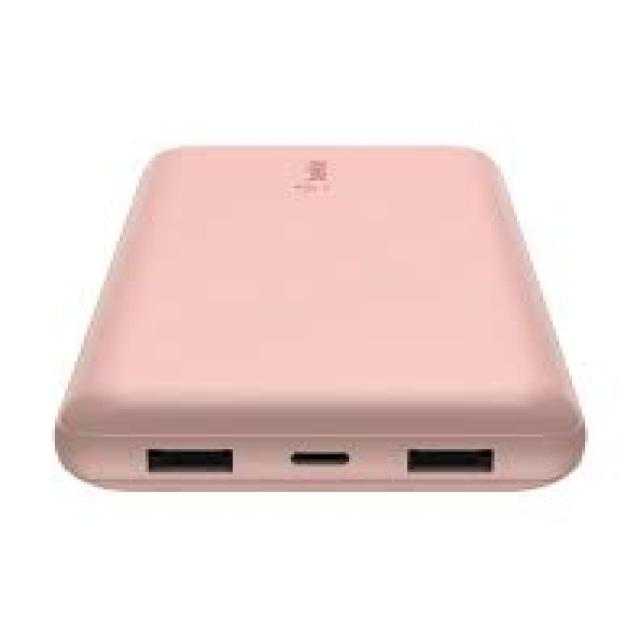portable-charger: (49, 136, 591, 500)
